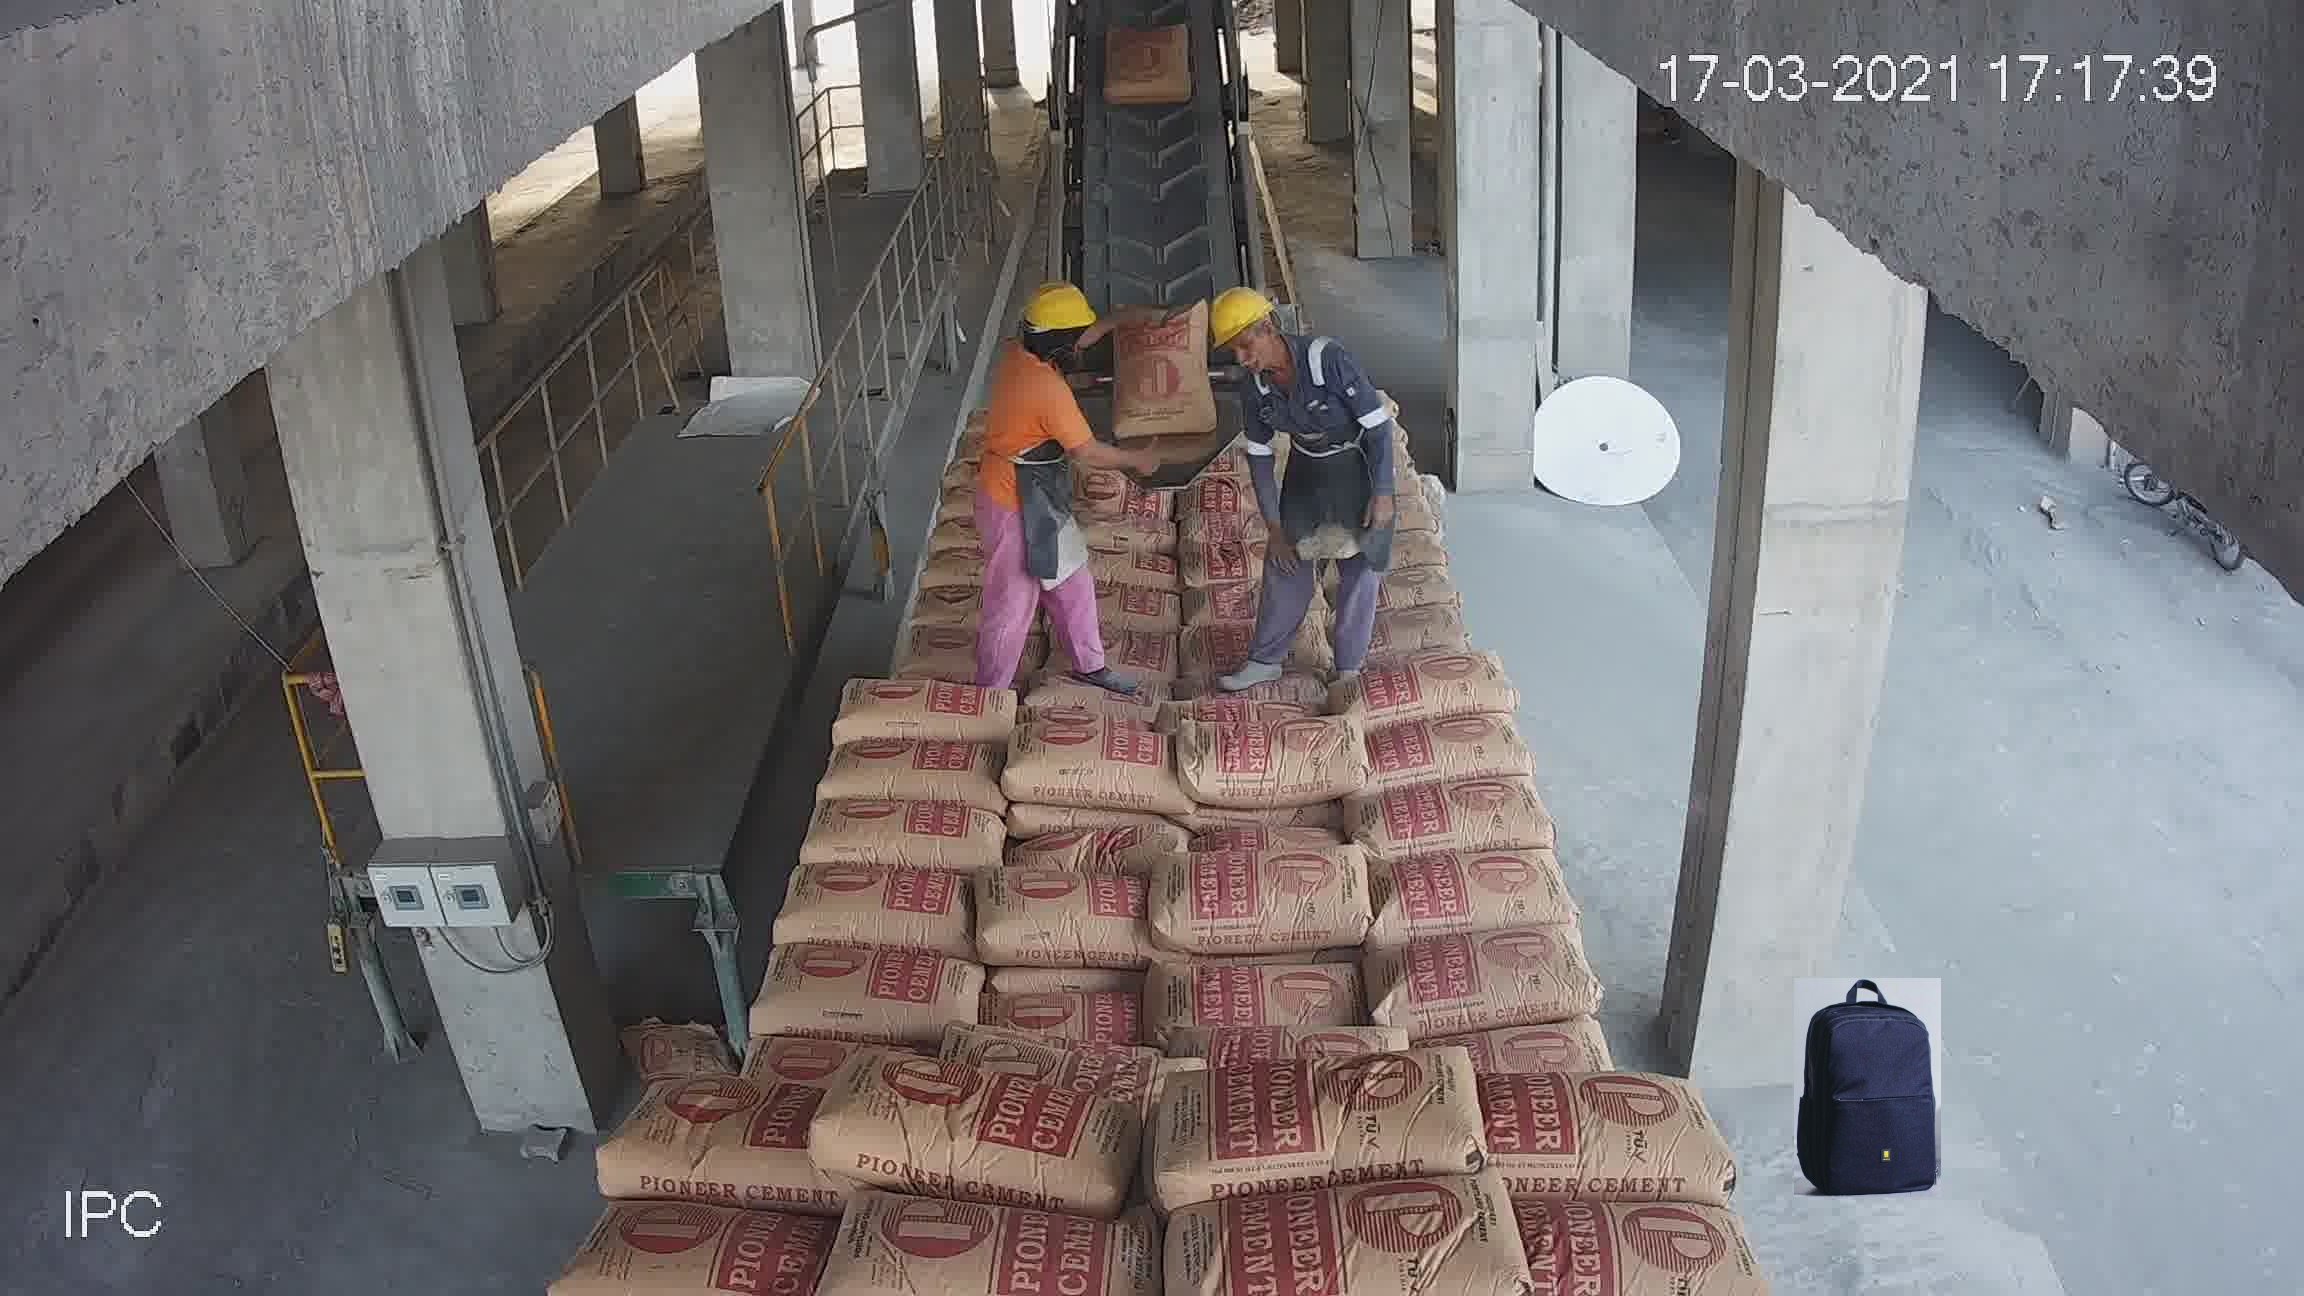bag: (1108, 294, 1207, 438), (1100, 24, 1195, 103)
bag_h: (794, 1059, 1135, 1207), (1173, 1049, 1483, 1204), (1180, 1176, 1521, 1296), (1448, 1070, 1722, 1206), (829, 1193, 1176, 1294), (1361, 918, 1598, 1036), (745, 934, 995, 1044), (559, 1195, 828, 1294), (1500, 1176, 1747, 1282), (603, 1082, 809, 1207), (760, 859, 987, 957), (976, 858, 1152, 983), (1165, 848, 1377, 945), (1359, 848, 1570, 937), (1152, 964, 1364, 1049), (1177, 714, 1362, 807), (1005, 723, 1184, 815), (1348, 775, 1548, 858), (801, 802, 1000, 878), (1364, 703, 1532, 788), (1347, 655, 1516, 739), (818, 734, 1008, 807), (1404, 1021, 1611, 1086), (831, 676, 1022, 745), (1000, 987, 1157, 1057), (1187, 608, 1339, 679), (1032, 669, 1174, 726), (1161, 513, 1256, 592), (1060, 584, 1180, 635), (1372, 601, 1465, 655), (892, 628, 984, 680), (1169, 581, 1269, 628), (915, 584, 984, 627)
belt: (1033, 25, 1271, 423)
